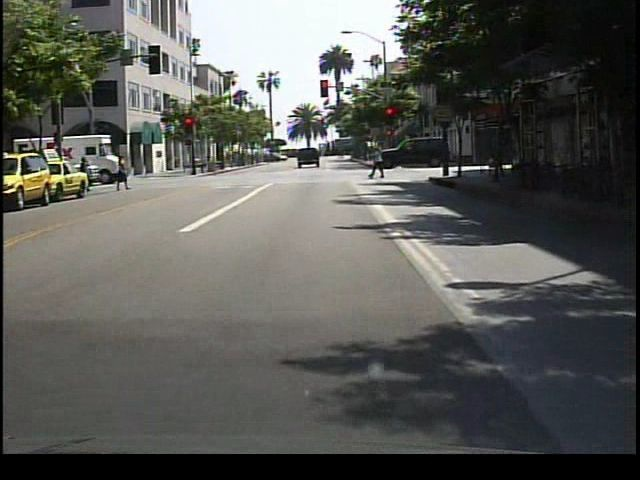person: (485, 138, 506, 184), (75, 152, 95, 193), (370, 147, 390, 181), (115, 157, 131, 195)
